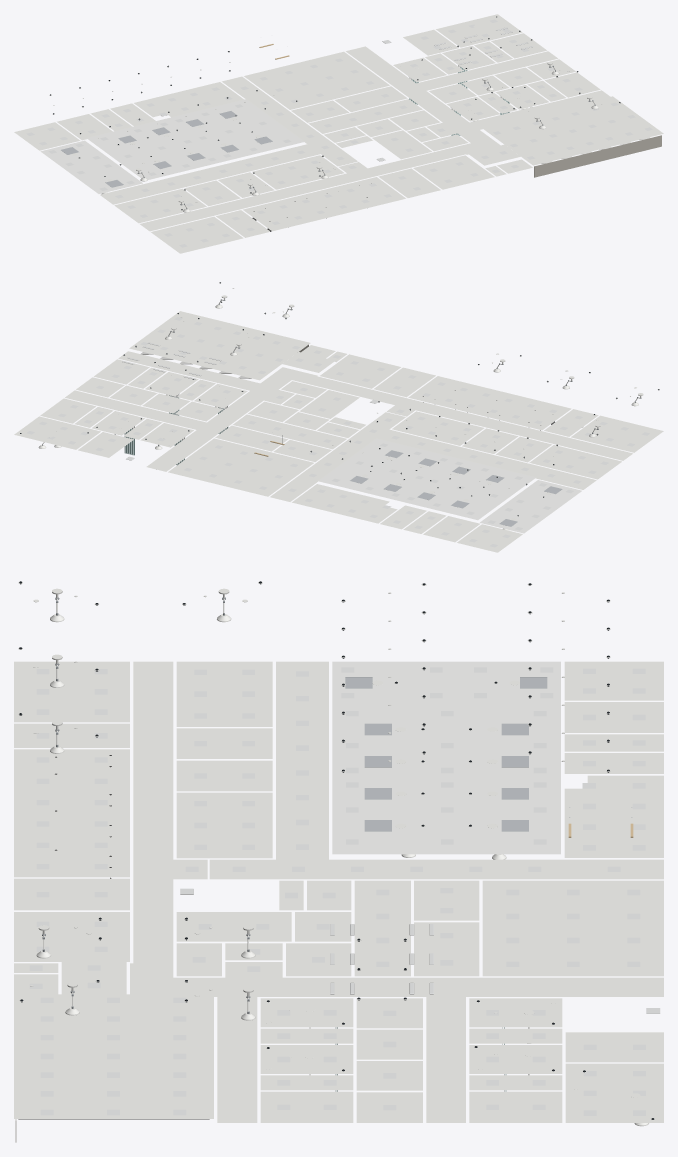
Rendered from 15_n1_plafones.glb.
The picture shows the model from 3 angles, top to bottom: view 1: azimuth 30°, elevation 25°; view 2: azimuth 150°, elevation 25°; view 3: azimuth 270°, elevation 25°; orthographic projection. The views are drawn at different scales.
Parts seen in each view (by area): view 1: Plafón de pasillos N1, plafón · Macro quirófano · 8 mesas · h libre 3.60 m, plafón · Sala de usos múltiples · 80-100 asistentes · h libr, plafón · Sala de microcirugía · 16 estaciones, plafón · Sala de café, plafón · Sala de cirugía robótica, plafón · Bodega de material quirúrgico e insumos, plafón · Sala de máquinas y gases medicinales, bafles acústicos y persiana, plafón · Vestidor de quirófano · hombres · lockers, plafón · Vestidor de quirófano · mujeres · lockers, plafón · Lobby, recepción y vigilancia (+30 smaller); view 2: Plafón de pasillos N1, plafón · Macro quirófano · 8 mesas · h libre 3.60 m, plafón · Sala de usos múltiples · 80-100 asistentes · h libr, plafón · Sala de microcirugía · 16 estaciones, plafón · Sala de café, plafón · Sala de cirugía robótica, plafón · Bodega de material quirúrgico e insumos, plafón · Sala de máquinas y gases medicinales, plafón · Vestidor de quirófano · mujeres · lockers, plafón · Vestidor de quirófano · hombres · lockers, plafón · Lobby, recepción y vigilancia, plafón · Atención al politraumatizado y recepción de ambulan (+27 smaller); view 3: Plafón de pasillos N1, plafón · Macro quirófano · 8 mesas · h libre 3.60 m, plafón · Sala de usos múltiples · 80-100 asistentes · h libr, plafón · Sala de microcirugía · 16 estaciones, plafón · Sala de café, plafón · Sala de cirugía robótica, plafón · Bodega de material quirúrgico e insumos, plafón · Sala de máquinas y gases medicinales, plafón · Vestidor de quirófano · mujeres · lockers, plafón · Vestidor de quirófano · hombres · lockers, plafón · Atención al politraumatizado y recepción de ambulan, plafón · Lobby, recepción y vigilancia (+34 smaller).
Part boxes in pixels (left/top/right/bottom): Plafón de pasillos N1: left=100, top=46, right=610, bottom=231; plafón · Macro quirófano · 8 mesas · h libre 3.60 m: left=86, top=99, right=304, bottom=179; plafón · Sala de usos múltiples · 80-100 asistentes · h libr: left=482, top=96, right=663, bottom=165; plafón · Sala de microcirugía · 16 estaciones: left=244, top=51, right=389, bottom=109; plafón · Sala de café: left=243, top=177, right=405, bottom=231; plafón · Sala de cirugía robótica: left=40, top=140, right=142, bottom=193; plafón · Bodega de material quirúrgico e insumos: left=134, top=82, right=243, bottom=117; plafón · Sala de máquinas y gases medicinales: left=151, top=216, right=243, bottom=253; bafles acústicos y persiana: left=534, top=135, right=661, bottom=177; plafón · Vestidor de quirófano · hombres · lockers: left=114, top=188, right=206, bottom=223; plafón · Vestidor de quirófano · mujeres · lockers: left=252, top=155, right=344, bottom=189; plafón · Lobby, recepción y vigilancia: left=413, top=155, right=494, bottom=189; Plafón de pasillos N1: left=65, top=351, right=632, bottom=501; plafón · Macro quirófano · 8 mesas · h libre 3.60 m: left=318, top=438, right=536, bottom=520; plafón · Sala de usos múltiples · 80-100 asistentes · h libr: left=129, top=311, right=310, bottom=380; plafón · Sala de microcirugía · 16 estaciones: left=168, top=438, right=313, bottom=496; plafón · Sala de café: left=408, top=376, right=571, bottom=430; plafón · Sala de cirugía robótica: left=480, top=480, right=581, bottom=533; plafón · Bodega de material quirúrgico e insumos: left=292, top=484, right=397, bottom=523; plafón · Sala de máquinas y gases medicinales: left=571, top=415, right=663, bottom=452; plafón · Vestidor de quirófano · mujeres · lockers: left=392, top=411, right=484, bottom=445; plafón · Vestidor de quirófano · hombres · lockers: left=529, top=445, right=621, bottom=479; plafón · Lobby, recepción y vigilancia: left=320, top=354, right=400, bottom=388; plafón · Atención al politraumatizado y recepción de ambulan: left=14, top=416, right=100, bottom=449; Plafón de pasillos N1: left=130, top=661, right=663, bottom=1122; plafón · Macro quirófano · 8 mesas · h libre 3.60 m: left=332, top=701, right=560, bottom=854; plafón · Sala de usos múltiples · 80-100 asistentes · h libr: left=14, top=994, right=213, bottom=1118; plafón · Sala de microcirugía · 16 estaciones: left=482, top=880, right=663, bottom=976; plafón · Sala de café: left=14, top=749, right=129, bottom=877; plafón · Sala de cirugía robótica: left=332, top=661, right=560, bottom=701; plafón · Bodega de material quirúrgico e insumos: left=564, top=775, right=663, bottom=857; plafón · Sala de máquinas y gases medicinales: left=14, top=661, right=129, bottom=722; plafón · Vestidor de quirófano · mujeres · lockers: left=176, top=792, right=272, bottom=858; plafón · Vestidor de quirófano · hombres · lockers: left=176, top=661, right=272, bottom=726; plafón · Atención al politraumatizado y recepción de ambulan: left=565, top=1063, right=663, bottom=1122; plafón · Lobby, recepción y vigilancia: left=14, top=912, right=129, bottom=961.
Size of the model in its own units: 49.4 by 7.16 by 29.4.
Materials: 23 (3 with a texture image).
